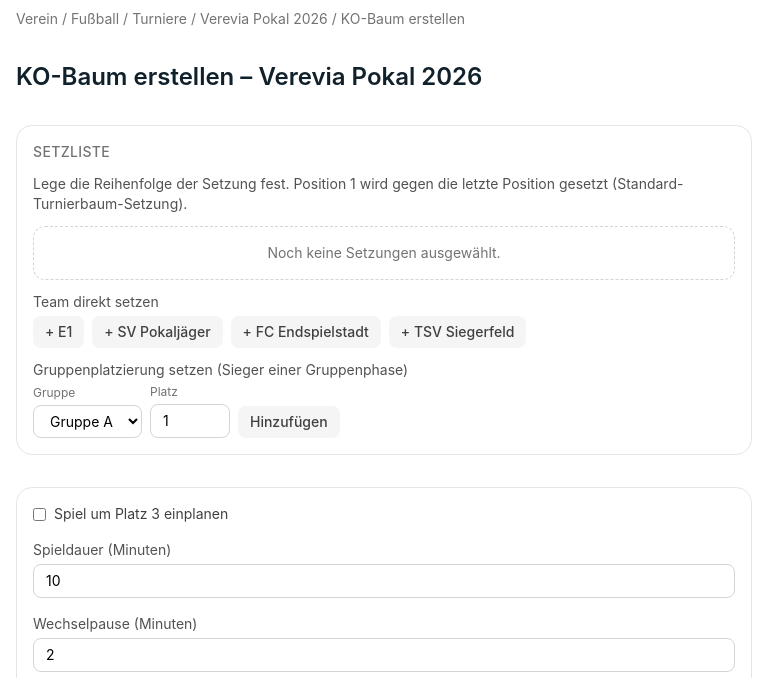
Test: TournamentKnockoutGenerator › disables the calculate button until at least 2 entrants are set
Click the button "+ E1" at coordinates (59, 332), box [33,316,84,348]
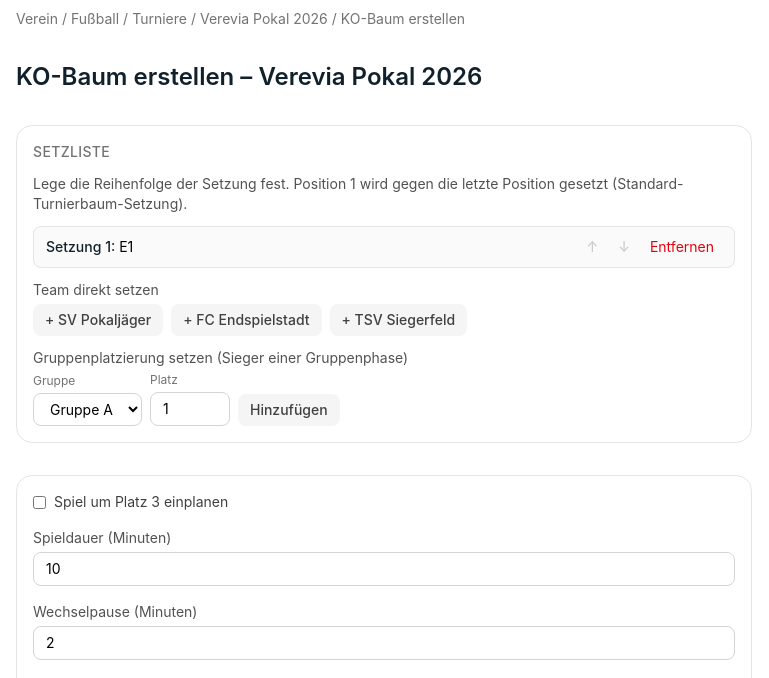
Click the button "+ SV Pokaljäger" at coordinates (98, 320), box [33,304,163,336]
(page scrolled)
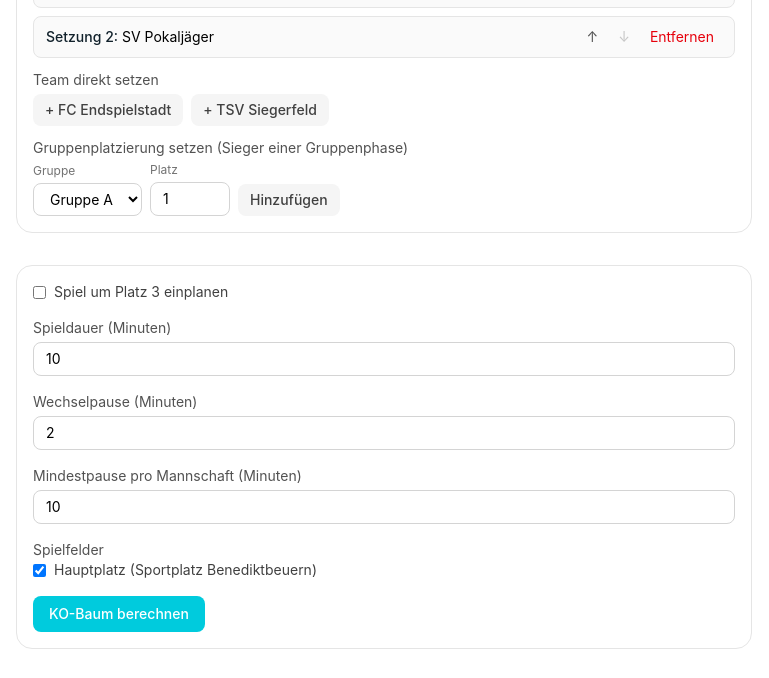
expect the button "KO-Baum berechnen" is enabled: met, box [33,596,205,632]
